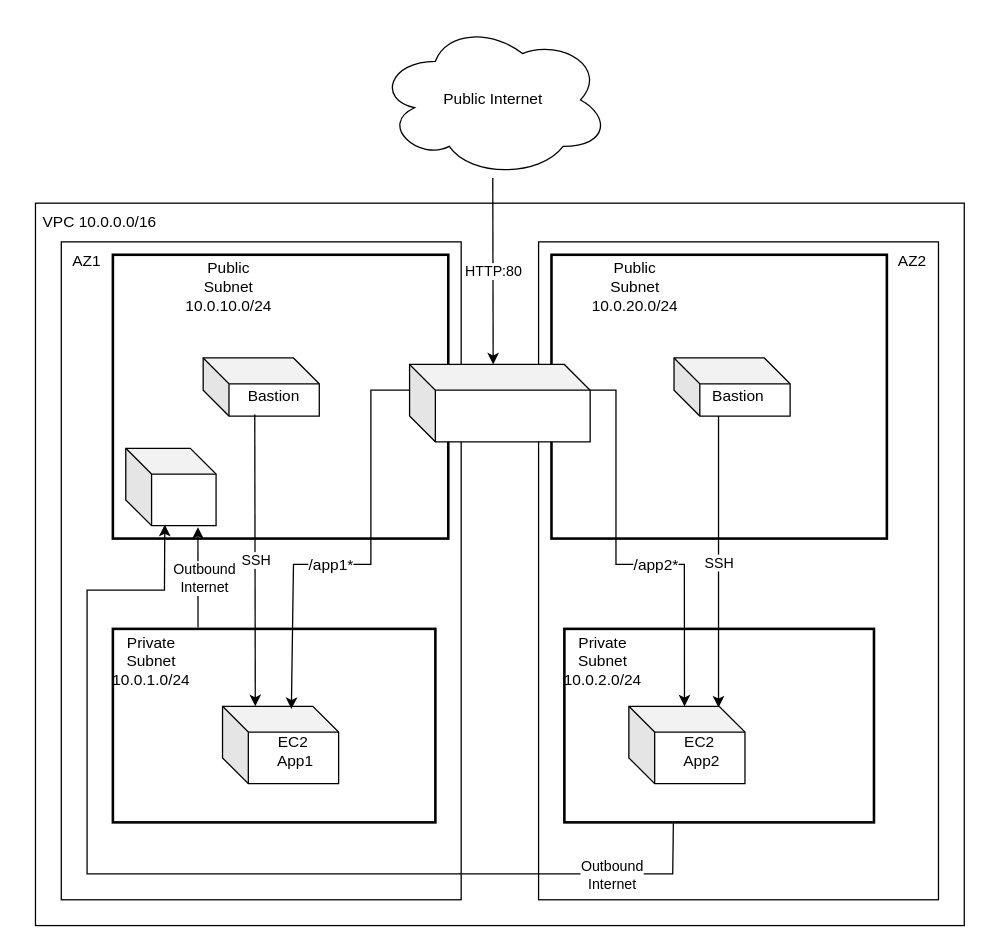
Image size: 987x948. Some labels were removed from this diagram. Each missing label, with the centre of its shape:
ALB Spanning both AZs: point (499, 402)
NAT GW: point (170, 486)
